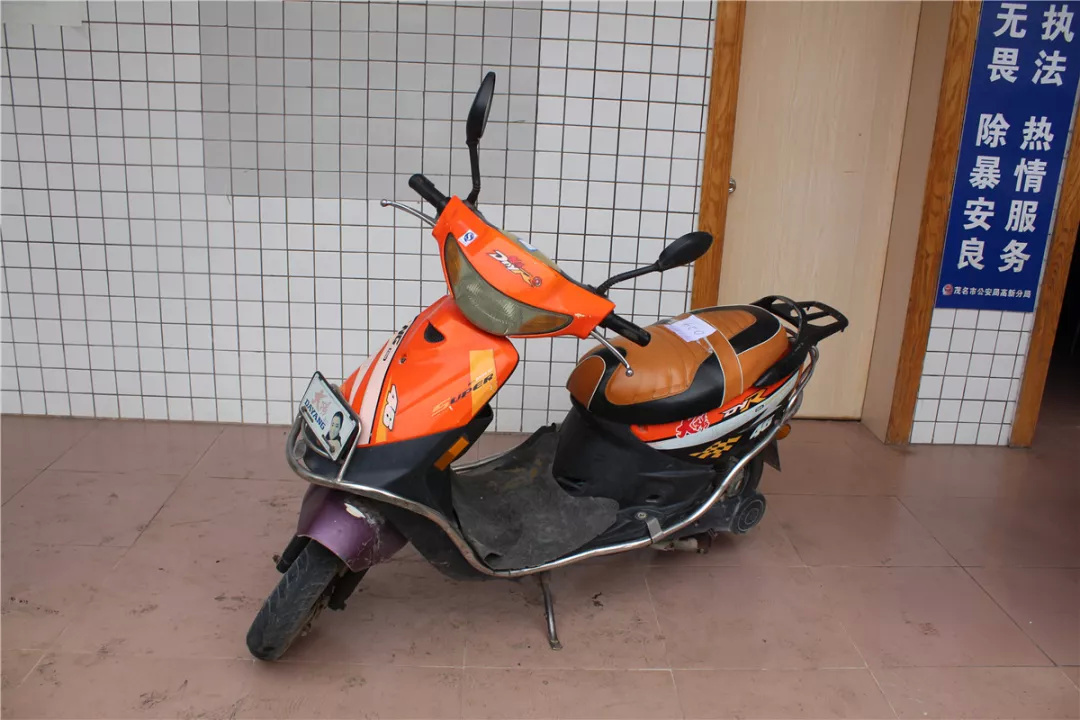电动车: (228, 63, 889, 675)
